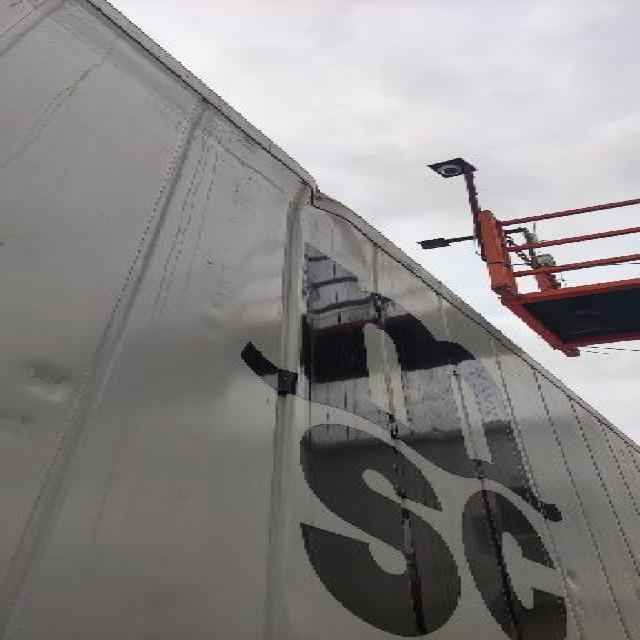dent: (279, 178, 350, 215)
